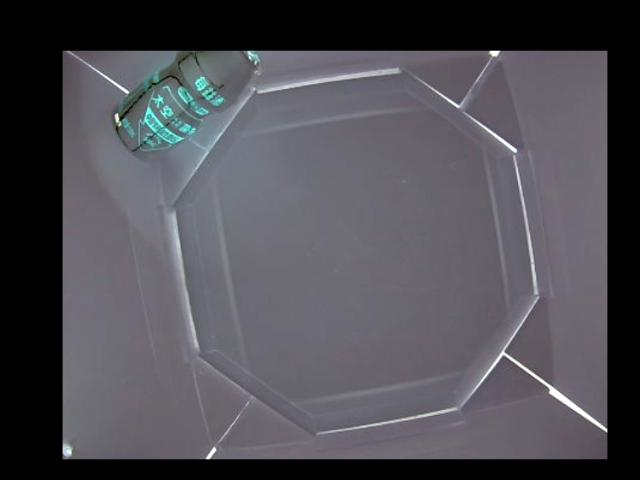Bottle: (106, 51, 261, 157)
